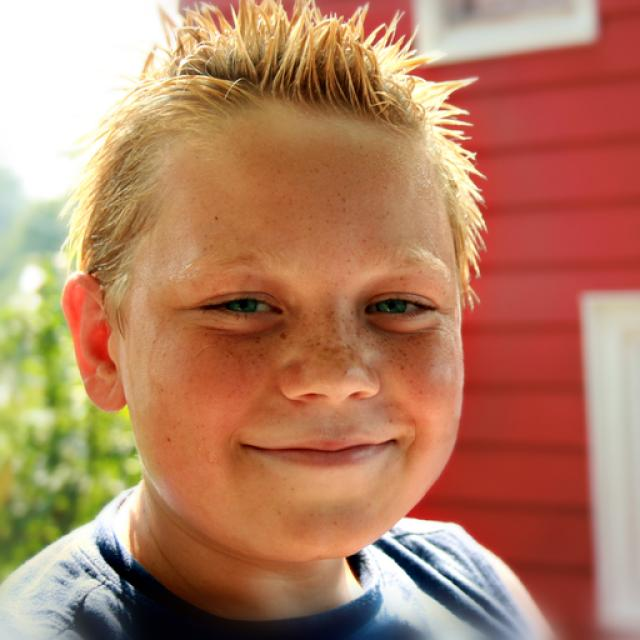Pigmentation: (345, 325, 444, 401), (290, 304, 382, 385), (226, 323, 296, 382)
